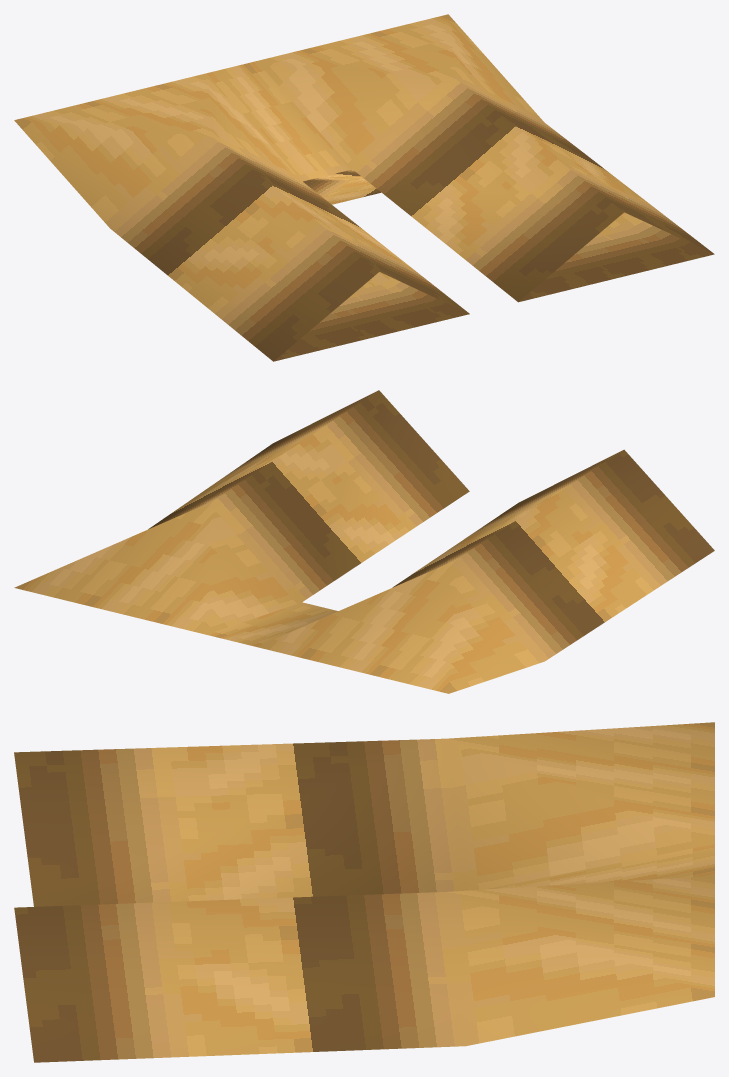
The model's file is 2066pants000_r.gltf.
3 renders of one model, top to bottom at view 1: azimuth 30°, elevation 25°; view 2: azimuth 150°, elevation 25°; view 3: azimuth 270°, elevation 25°, orthographic. The views are drawn at different scales.
Parts seen in each view (by area): view 1: 2066pants000_r; view 2: 2066pants000_r; view 3: 2066pants000_r.
Part boxes in pixels (x1,y1,x2,y2): 2066pants000_r: [14, 14, 714, 361]; 2066pants000_r: [14, 390, 714, 693]; 2066pants000_r: [14, 722, 714, 1062].
Size of the model in its own units: 0.7793 by 0.1667 by 0.8264.
Materials: 1 (1 with a texture image).
